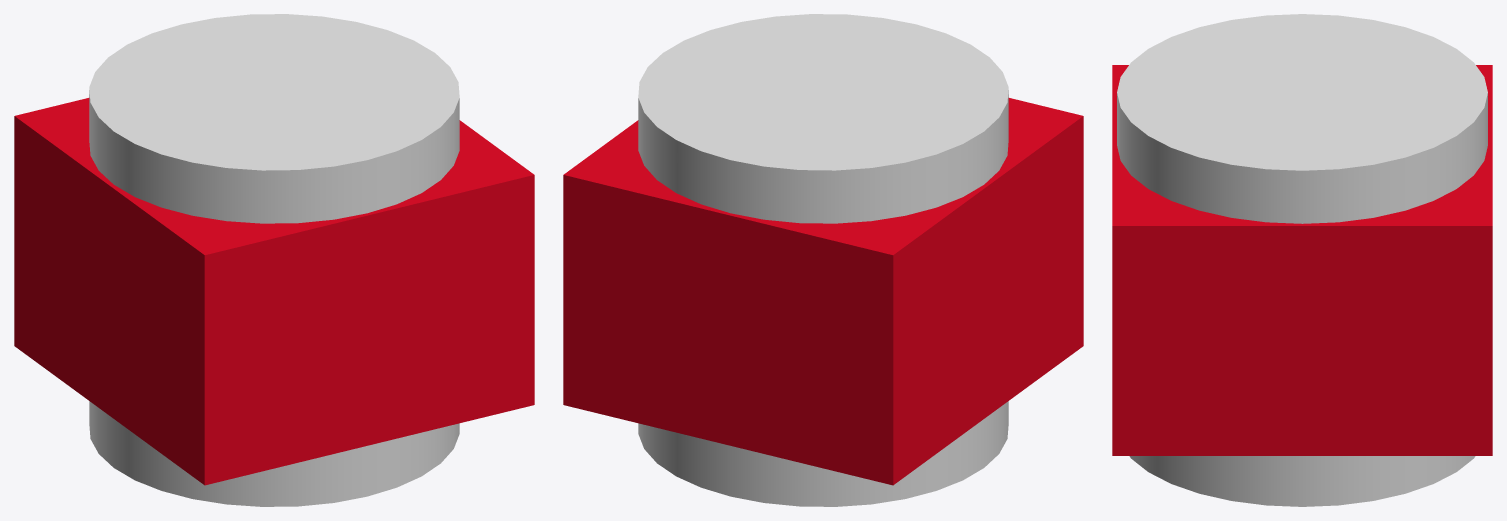
Rendered from Wobble_3D_Tile.fbx.
3 views of the same model, side by side, from view 1: azimuth 30°, elevation 25°; view 2: azimuth 150°, elevation 25°; view 3: azimuth 270°, elevation 25° (orthographic).
Parts seen in each view (by area): view 1: WholeMesh, Cylinder; view 2: WholeMesh, Cylinder; view 3: WholeMesh, Cylinder.
Boxes of the visible parts, x1=… form: WholeMesh: x1=14, y1=98, x2=534, y2=485; Cylinder: x1=89, y1=14, x2=459, y2=506; WholeMesh: x1=563, y1=98, x2=1083, y2=485; Cylinder: x1=638, y1=14, x2=1008, y2=506; WholeMesh: x1=1112, y1=65, x2=1492, y2=455; Cylinder: x1=1117, y1=14, x2=1487, y2=506.
Size of the model in its own units: 294 by 287 by 294.
